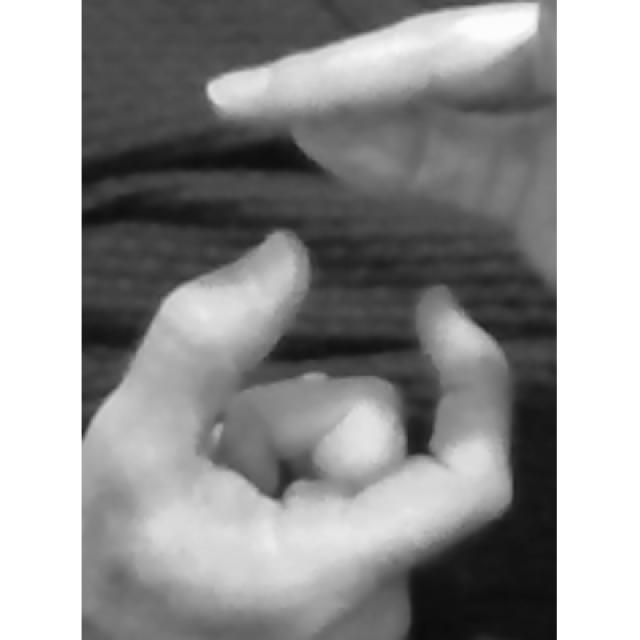U--: (81, 21, 556, 640)
